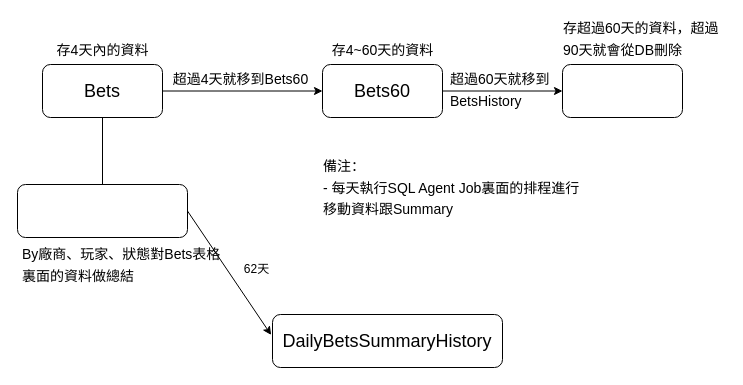
This 743x385 diagram has some shape labels left out. The shapes that lost their labels are listed below. From the top down, each one's centre as x and y in pixels, then its label:
(622,91): BetsHistory
(102,211): DailyBetsSummary
